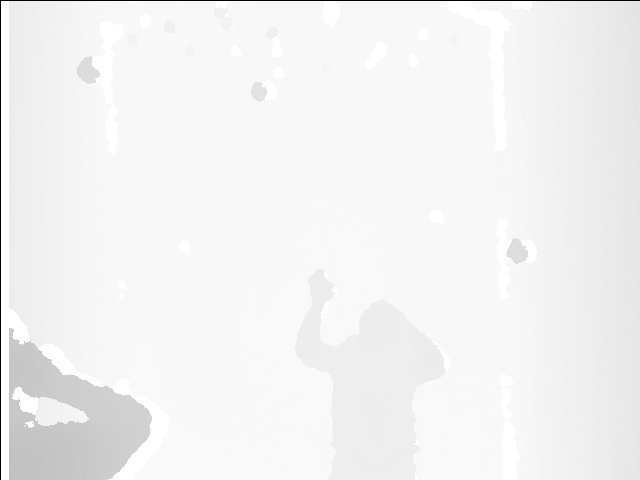hand: (307, 267, 334, 306)
